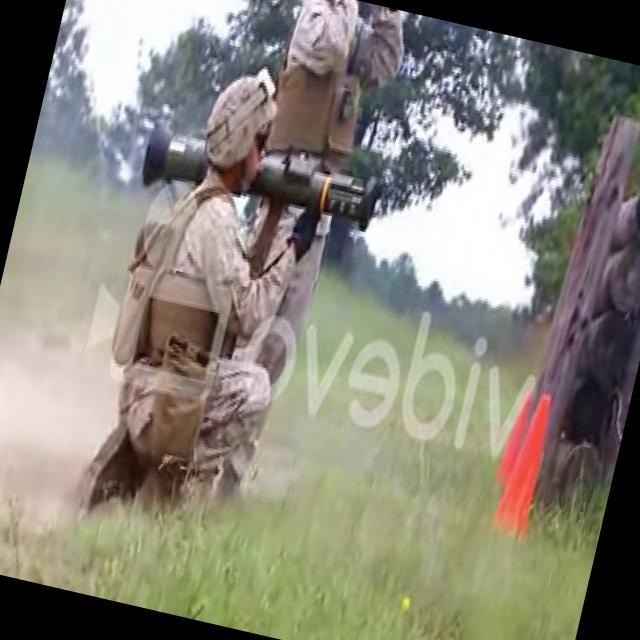rocket: (138, 117, 382, 232)
